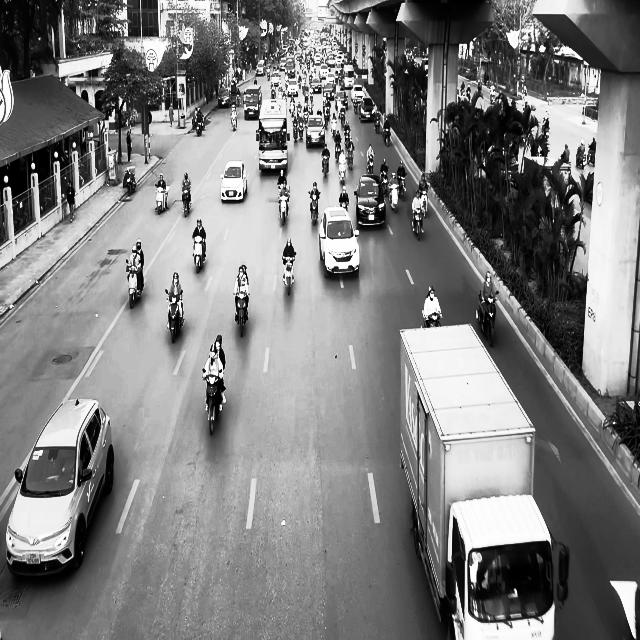bus: (257, 98, 288, 172)
car: (6, 397, 114, 578), (319, 206, 360, 276), (354, 174, 386, 227), (220, 160, 247, 203), (305, 115, 325, 148)
motorbike: (202, 369, 225, 435), (476, 290, 499, 346), (165, 288, 184, 343), (125, 259, 144, 308), (234, 292, 249, 336), (282, 253, 296, 294), (192, 235, 205, 273), (155, 184, 169, 214), (308, 191, 320, 225), (422, 308, 442, 328), (412, 208, 424, 240), (123, 167, 136, 195), (278, 193, 289, 225), (389, 184, 398, 212), (419, 189, 428, 217), (182, 190, 191, 217), (230, 111, 237, 131)
truck: (398, 322, 569, 639)
